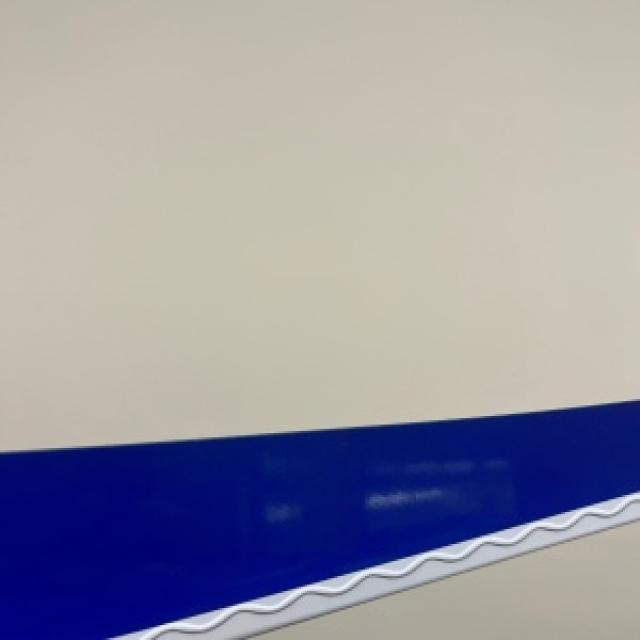healthy: (0, 401, 638, 638), (256, 523, 638, 638)
